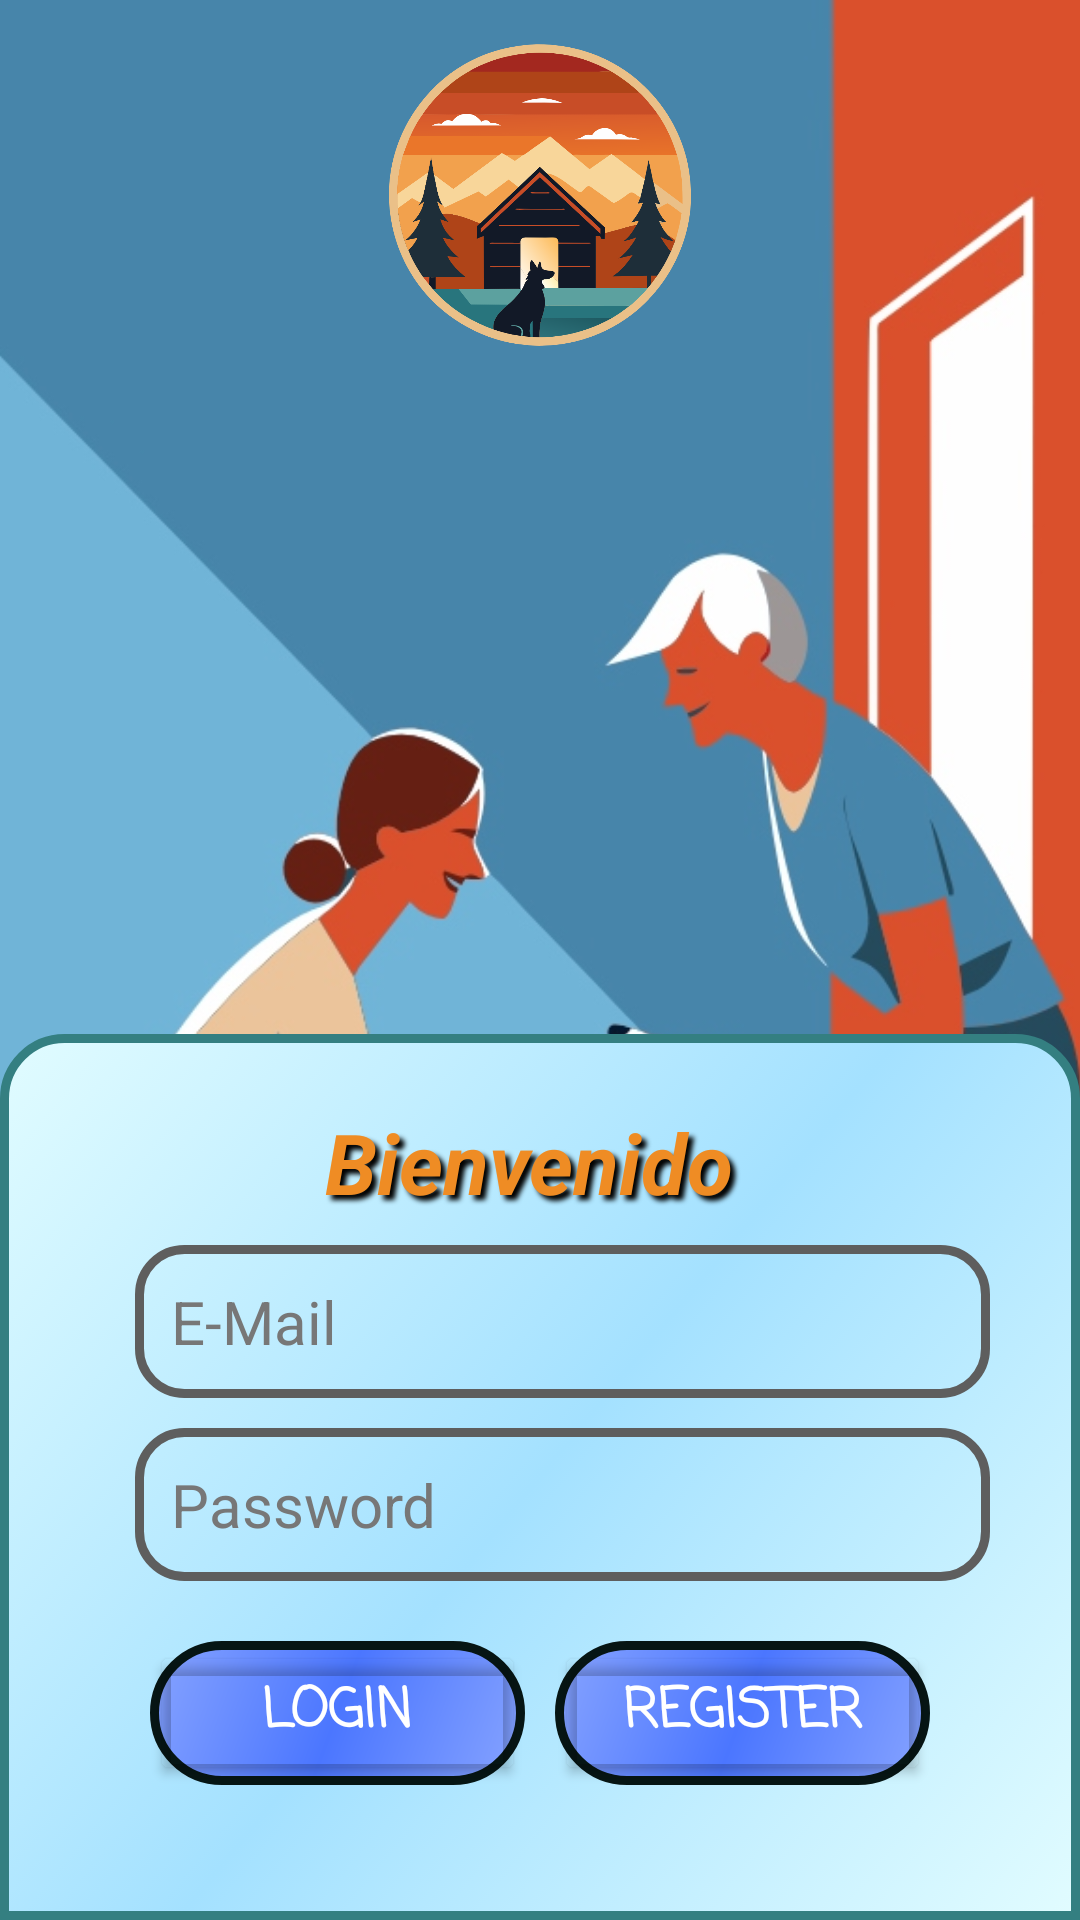

Locate icon controls on the screen. Image size 1080x1920, boxes as (x1, y1, x2, y2).
app icon: (389, 44, 691, 346)
